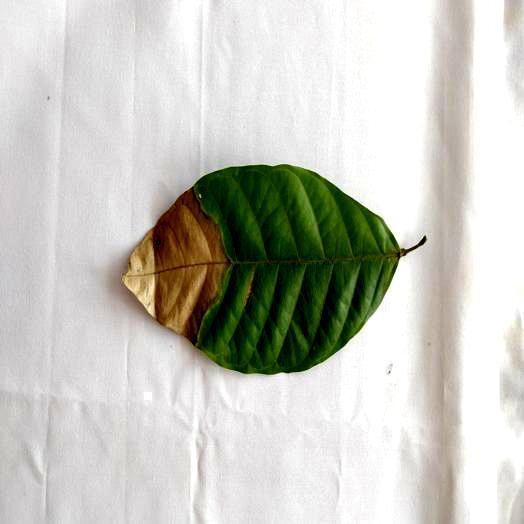Potassium: (123, 164, 425, 374)
